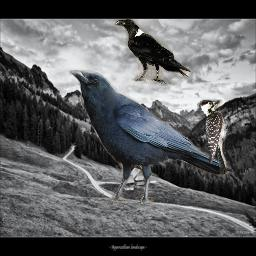Crow: (69, 70, 231, 207), (115, 19, 191, 84)
Woodpecker: (196, 99, 233, 176)
